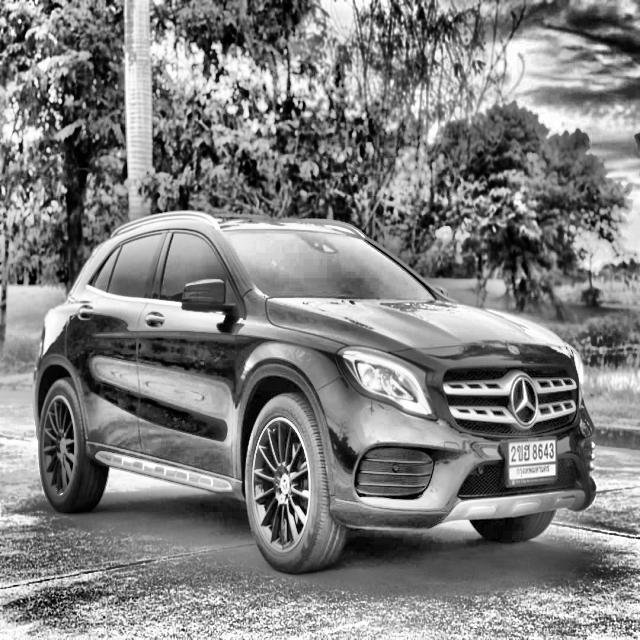license-plate: (502, 436, 559, 492)
